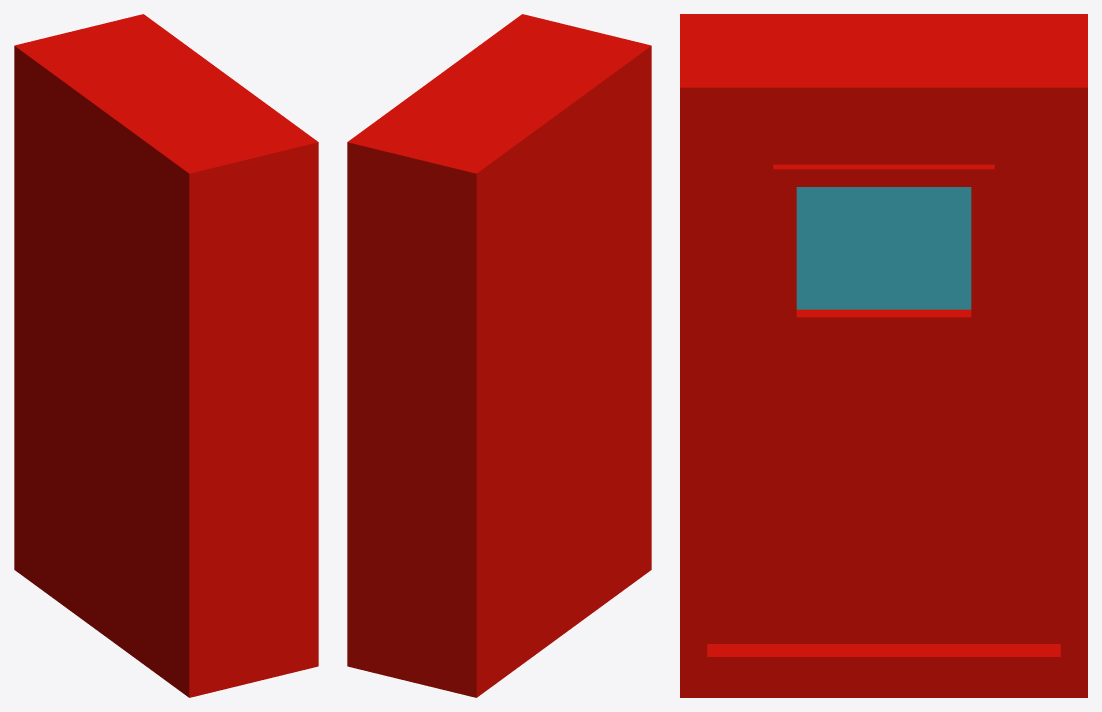
File: CaixaMangueira.dae
3 renders of one model, left to right at view 1: azimuth 30°, elevation 25°; view 2: azimuth 150°, elevation 25°; view 3: azimuth 270°, elevation 25°, orthographic. The views are drawn at different scales.
Visible parts, largest first — view 1: Cube; view 2: Cube; view 3: Cube.
Boxes of the visible parts, x1,y1,x2,y2 form: Cube: (14, 14, 318, 697); Cube: (347, 14, 651, 697); Cube: (680, 14, 1087, 697).
Size of the model in its own units: 0.8528 by 2 by 3.3.
